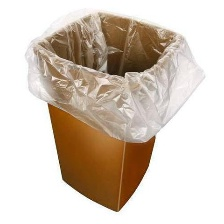plastic_bag: (18, 2, 207, 145)
